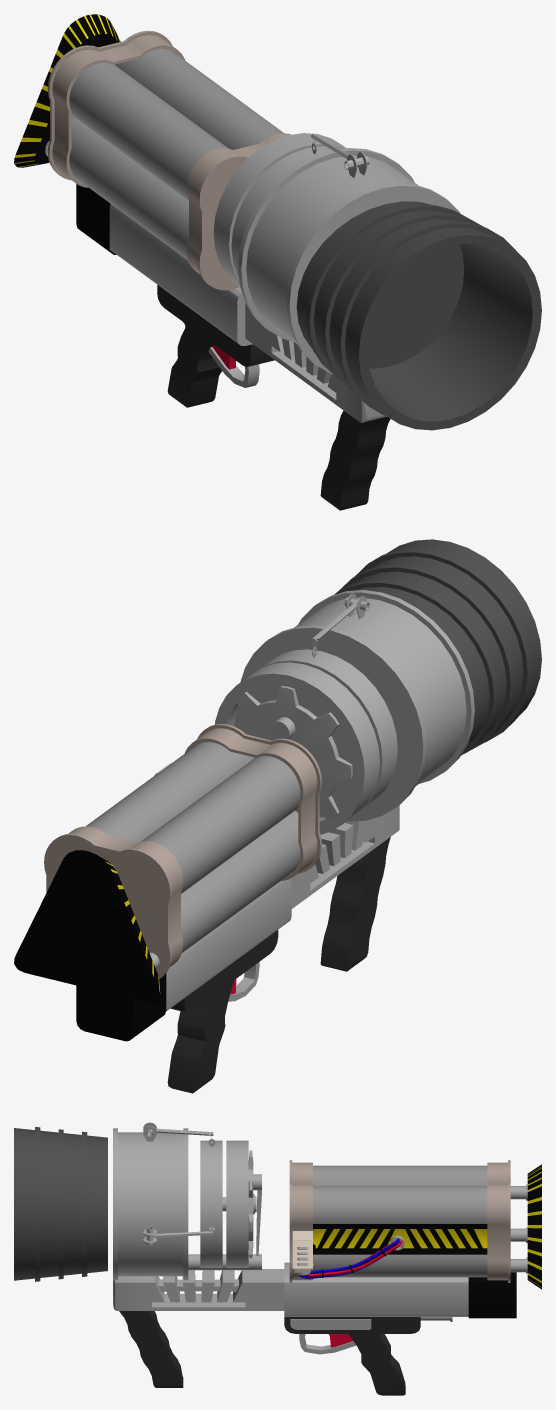
File: ThunderGun.fbx
3 views of the same model, one above another, from view 1: azimuth 30°, elevation 25°; view 2: azimuth 150°, elevation 25°; view 3: azimuth 270°, elevation 25° (orthographic). The views are drawn at different scales.
Visible parts, largest first — view 1: Cube.008; view 2: Cube.008; view 3: Cube.008.
Boxes of the visible parts, x1=… form: Cube.008: x1=14, y1=14, x2=541, y2=510; Cube.008: x1=14, y1=539, x2=541, y2=1093; Cube.008: x1=14, y1=1122, x2=541, y2=1395.
Size of the model in its own units: 133 by 231 by 411.
